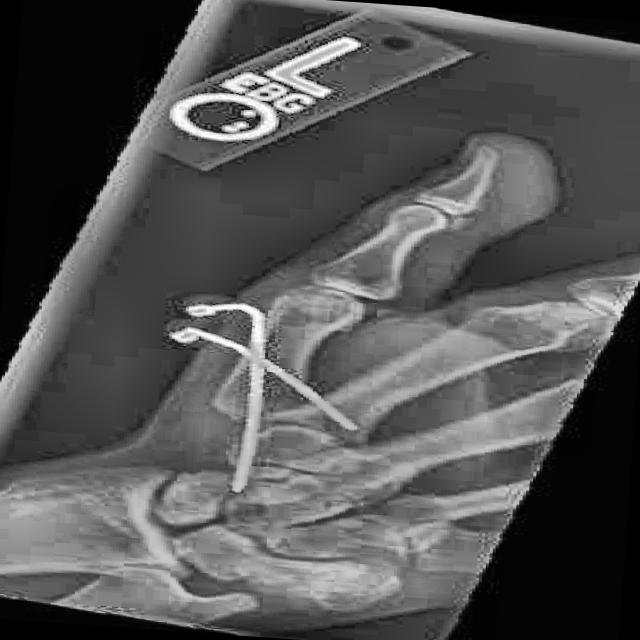fingers positive: (188, 381, 344, 420)
